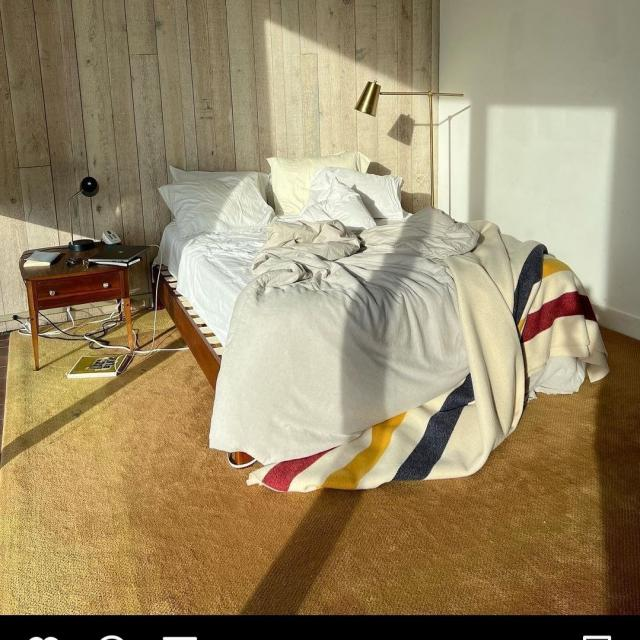bed: (170, 161, 586, 439)
